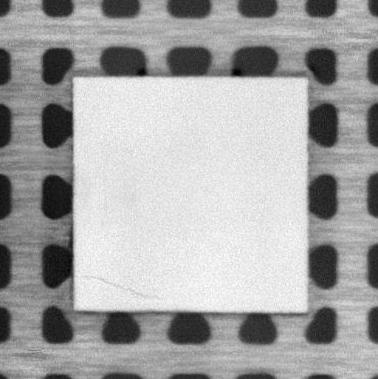DIE_CRACK: (85, 275, 160, 299)
